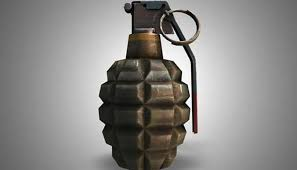bomb: (99, 1, 202, 169)
